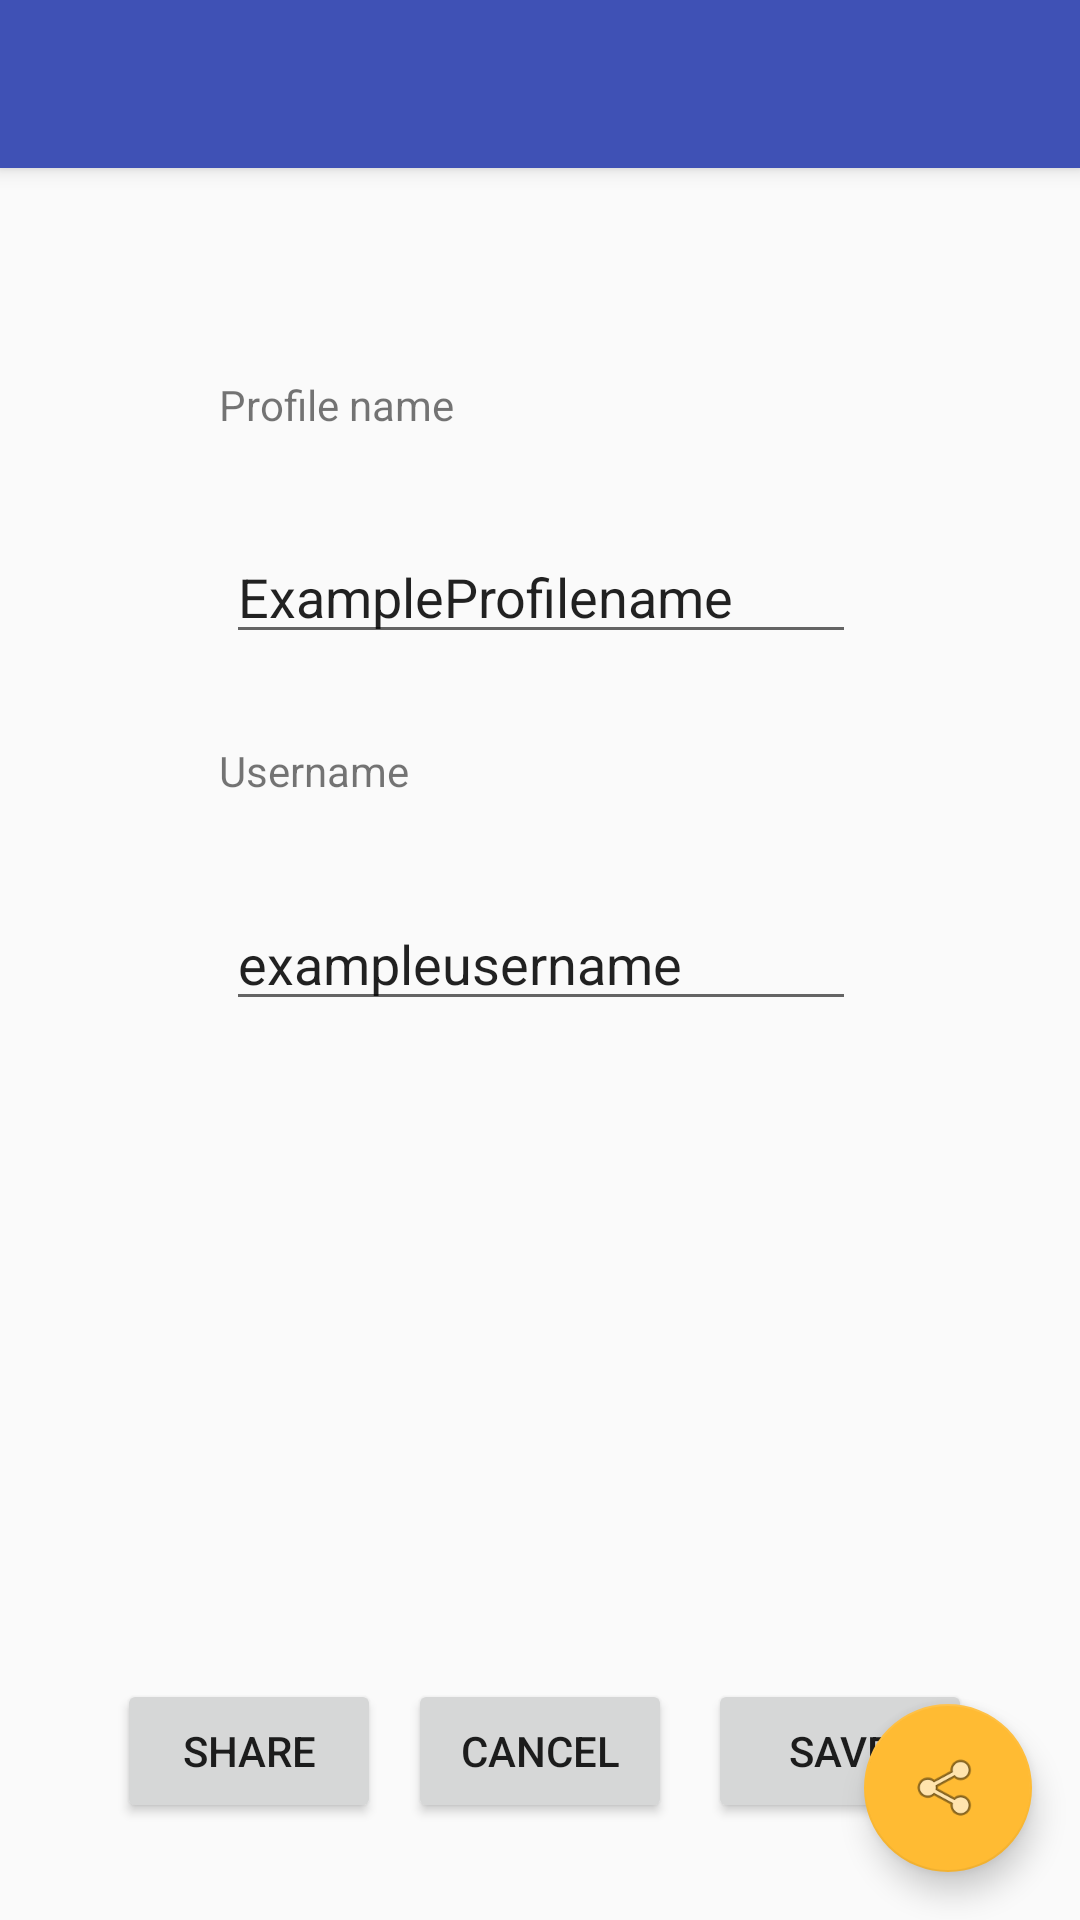

Screen size 1080px×1920px. Icon name, then its center in pixels as (x=x, y=y):
share: (x=948, y=1788)
